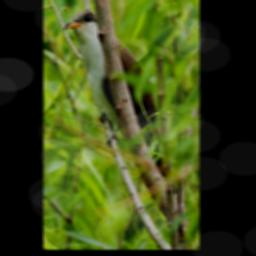Cuckoo: (60, 8, 185, 196)
